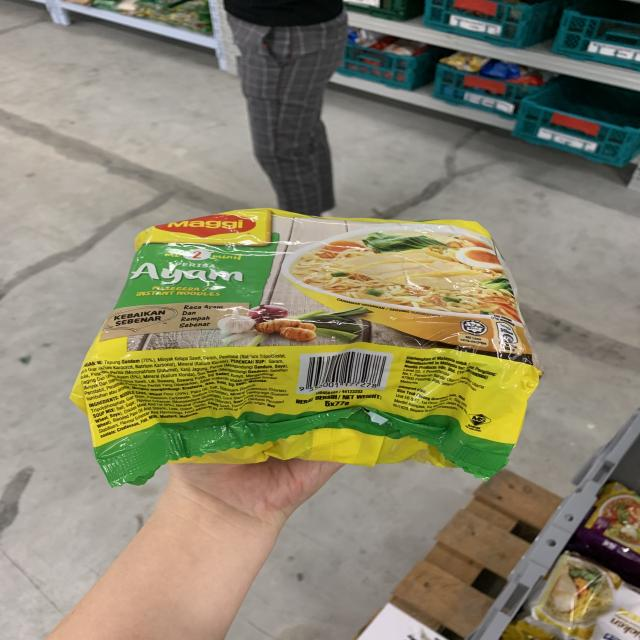object_name: (108, 220, 530, 461)
